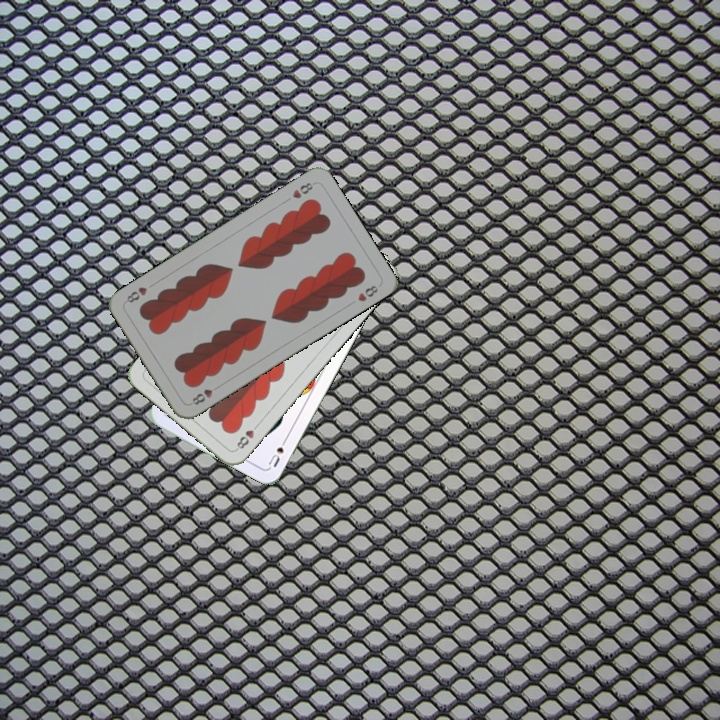H8: (232, 419, 262, 453), (188, 381, 223, 408), (288, 178, 318, 201)
SU: (264, 432, 291, 470)
